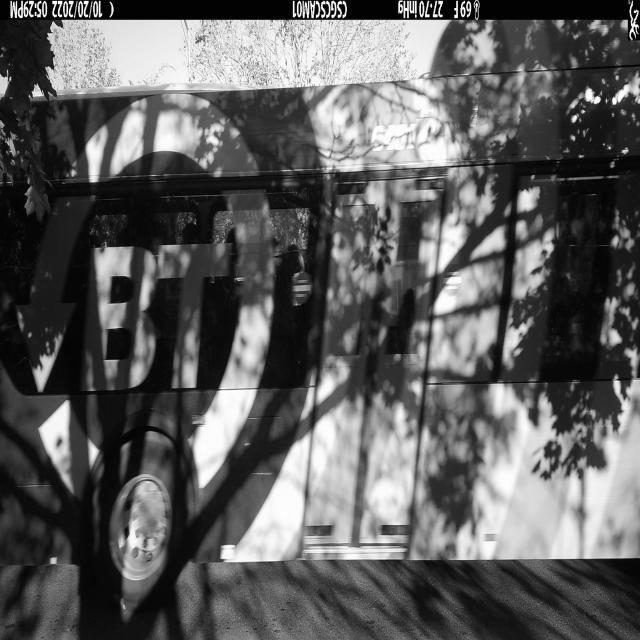Bus: (0, 68, 640, 632)
